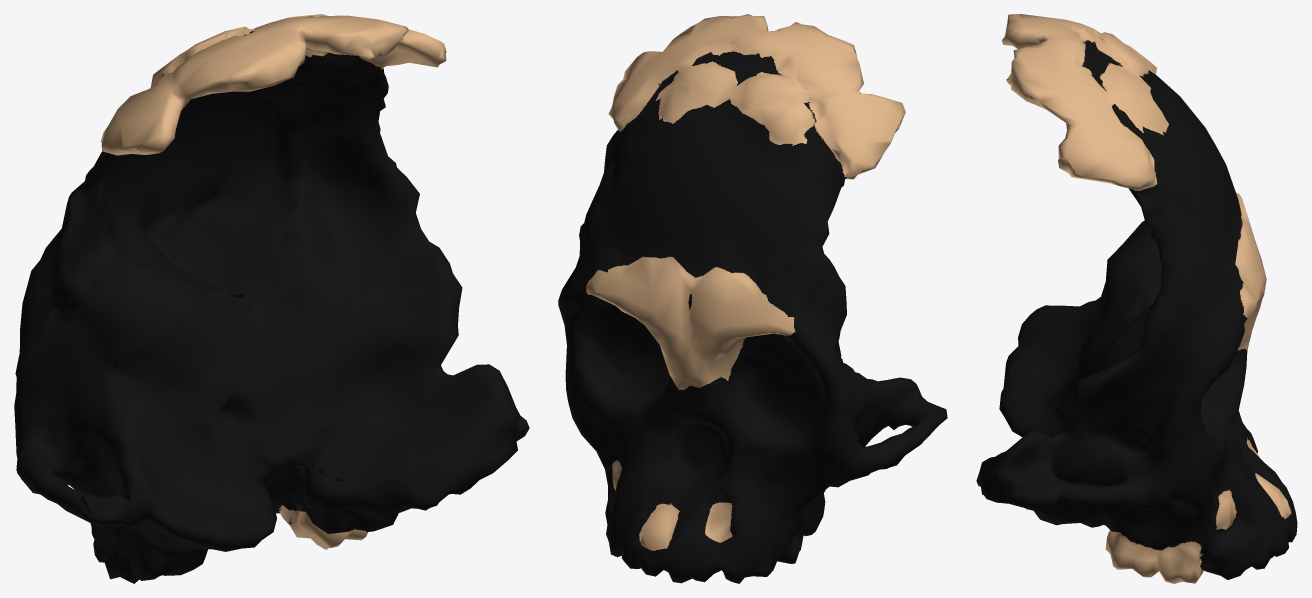
The model's file is naledi-letiskull.glb.
3 renders of one model, left to right at view 1: azimuth 30°, elevation 25°; view 2: azimuth 150°, elevation 25°; view 3: azimuth 270°, elevation 25°, orthographic. The views are drawn at different scales.
Bounding box in the file's own units: 0.0878 × 0.1127 × 0.0649.
Materials: 1 (1 with a texture image).
